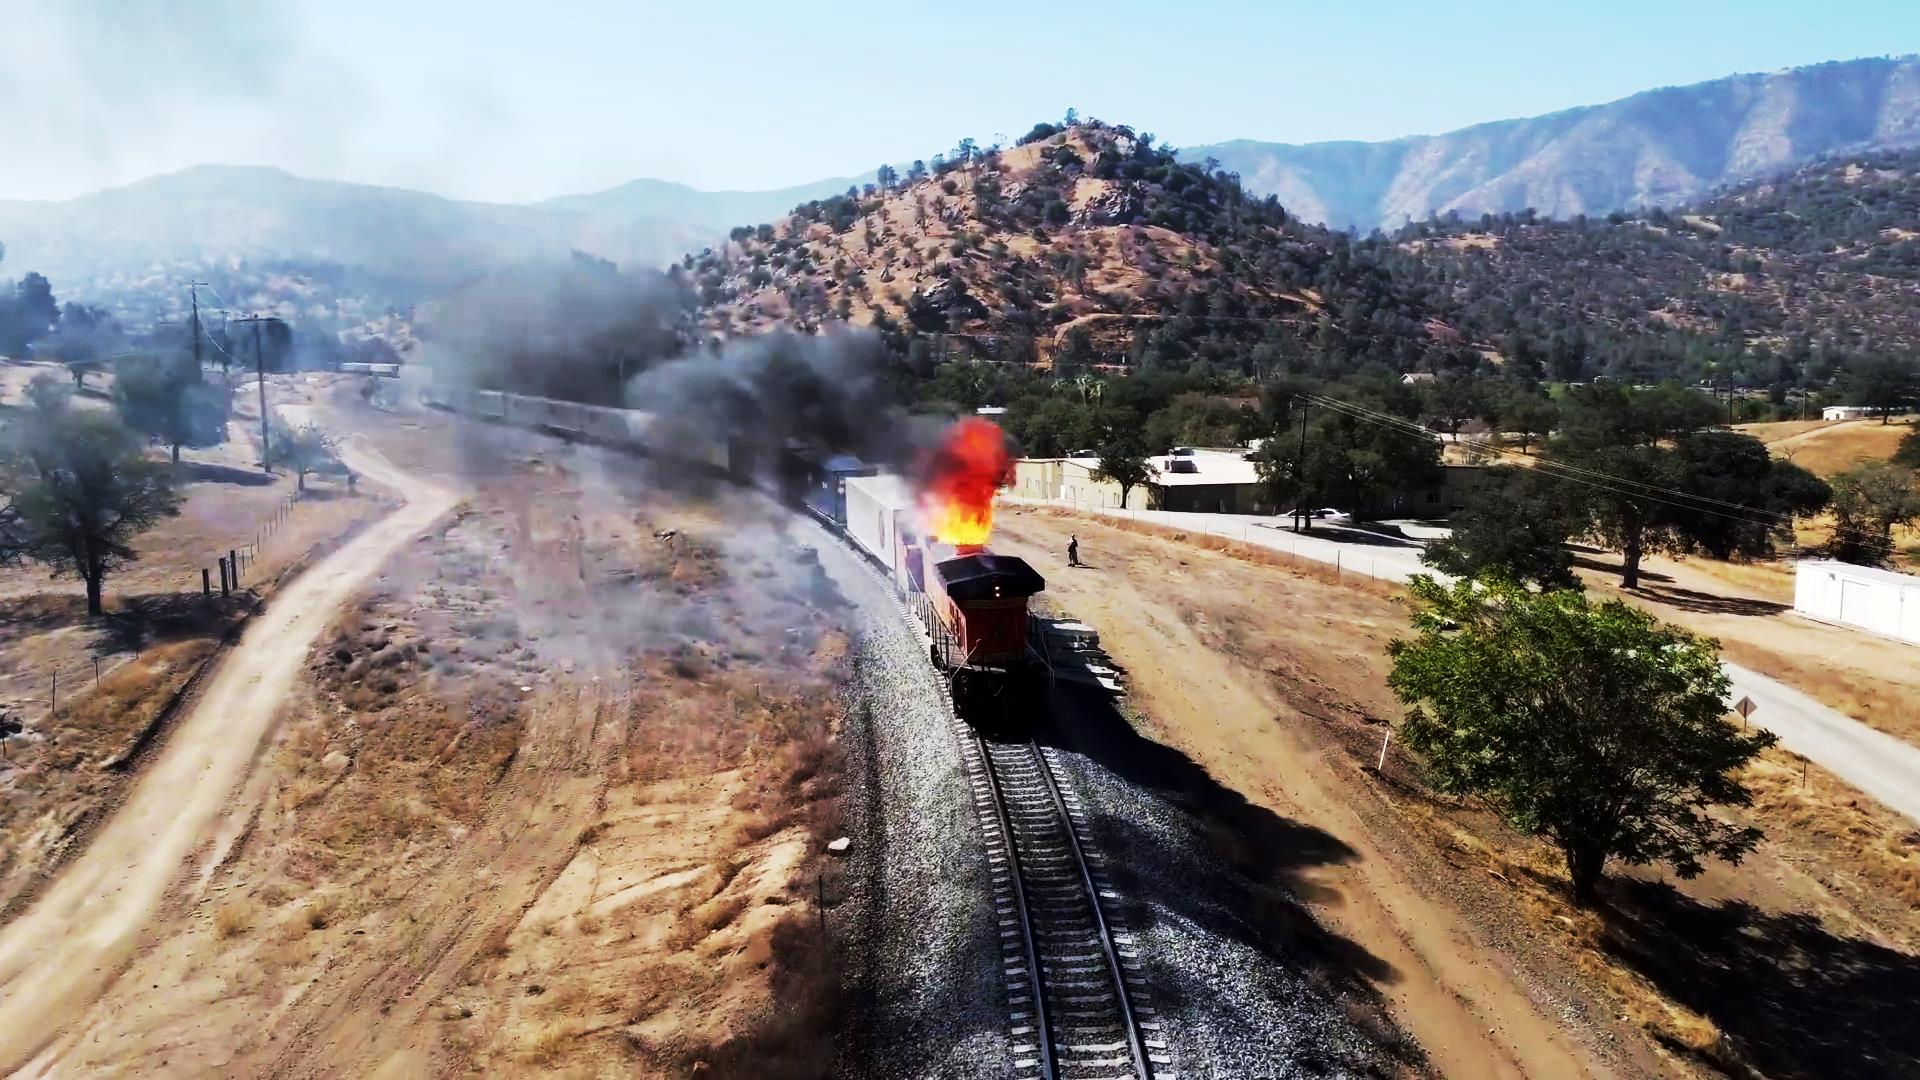fire: (916, 407, 1015, 553)
smoke: (658, 334, 916, 483)
